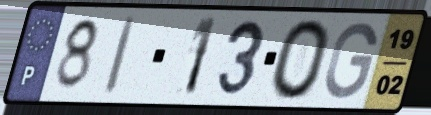1: (182, 14, 220, 100)
3: (214, 17, 267, 99)
8: (50, 16, 99, 93)
G: (321, 20, 380, 102)
I: (100, 14, 139, 98)
O: (268, 16, 333, 103)
